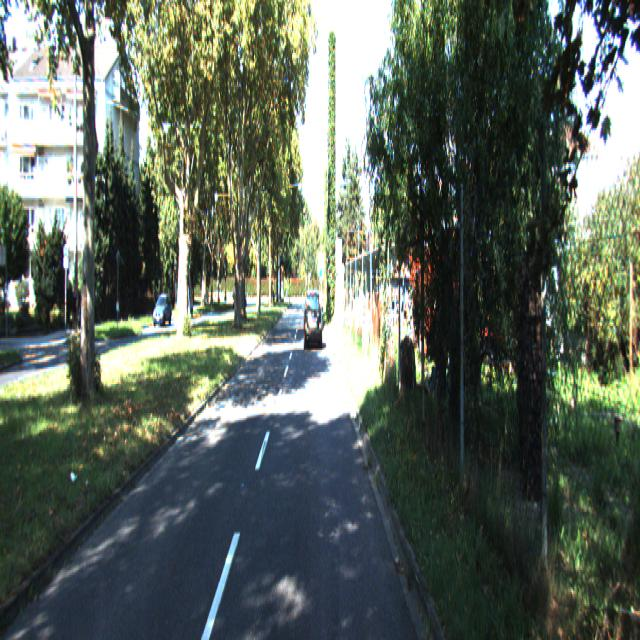Car: (304, 294, 322, 353)
